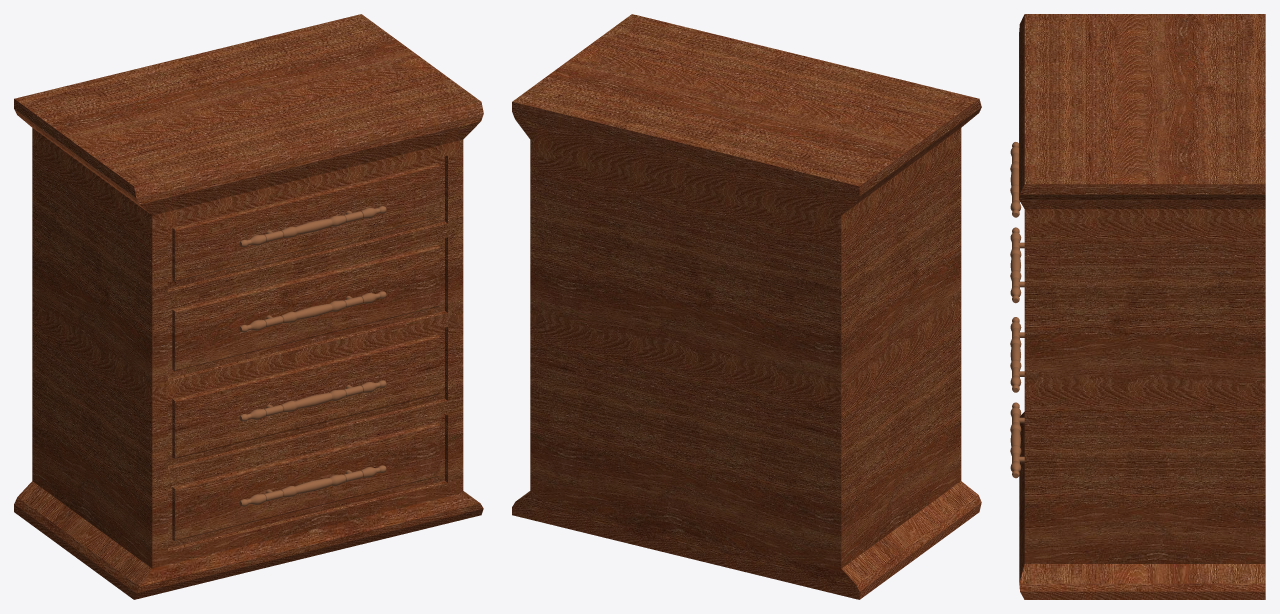
File: Cloth Rack.glb
The picture shows the model from 3 angles, left to right: view 1: azimuth 30°, elevation 25°; view 2: azimuth 150°, elevation 25°; view 3: azimuth 270°, elevation 25°; orthographic projection.
Visible parts, largest first — view 1: Cloth Rack.010; view 2: Cloth Rack.010; view 3: Cloth Rack.010.
Part boxes in pixels (left/top/right/bottom): Cloth Rack.010: left=14, top=14, right=483, bottom=599; Cloth Rack.010: left=512, top=14, right=981, bottom=599; Cloth Rack.010: left=1010, top=14, right=1265, bottom=599.
Bounding box in the file's own units: 1.07 × 1.22 × 0.6778.
2 materials, 1 textured.
